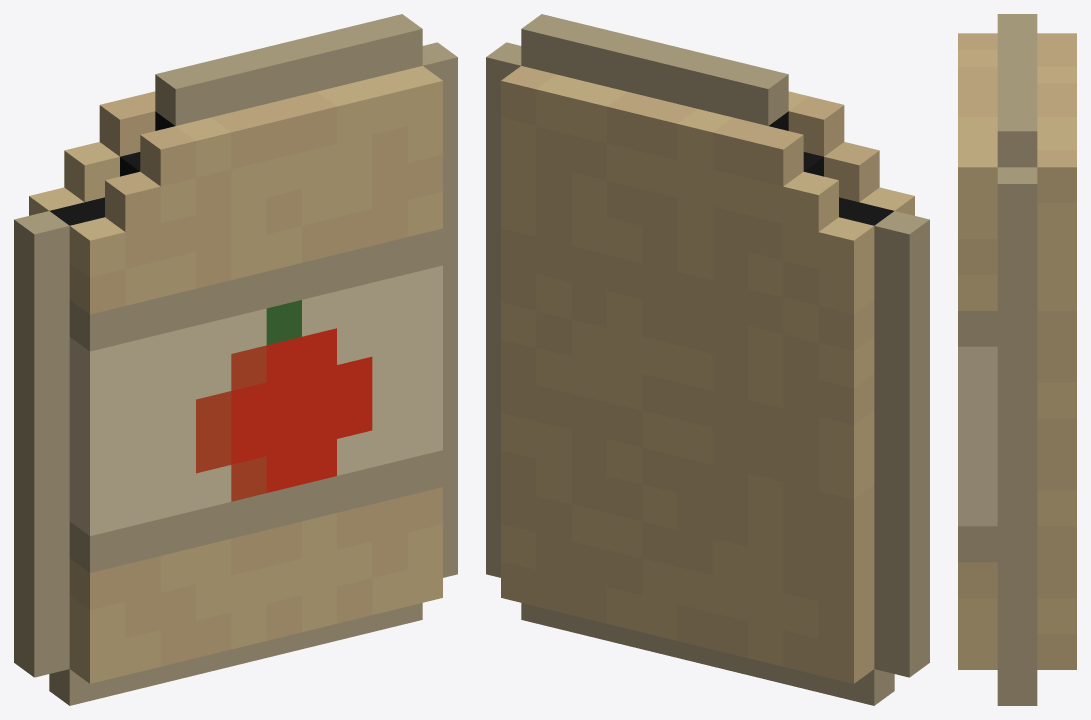
File: tomato_seeds.glb
The picture shows the model from 3 angles, left to right: view 1: azimuth 30°, elevation 25°; view 2: azimuth 150°, elevation 25°; view 3: azimuth 270°, elevation 25°; orthographic projection. The views are drawn at different scales.
Visible parts, largest first — view 1: seed_tomato; view 2: seed_tomato; view 3: seed_tomato.
Boxes of the visible parts, <box> form: seed_tomato: <box>14,14,457,705</box>; seed_tomato: <box>486,14,929,705</box>; seed_tomato: <box>958,14,1076,705</box>.
Size of the model in its own units: 0.3665 by 0.4887 by 0.0916.
1 material, 1 textured.
